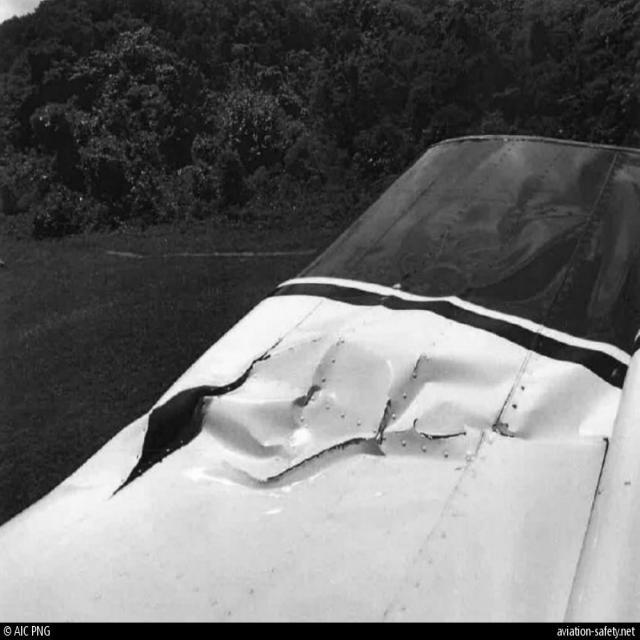crack: (271, 433, 378, 501), (404, 418, 459, 456), (372, 396, 398, 434), (414, 355, 430, 376)
